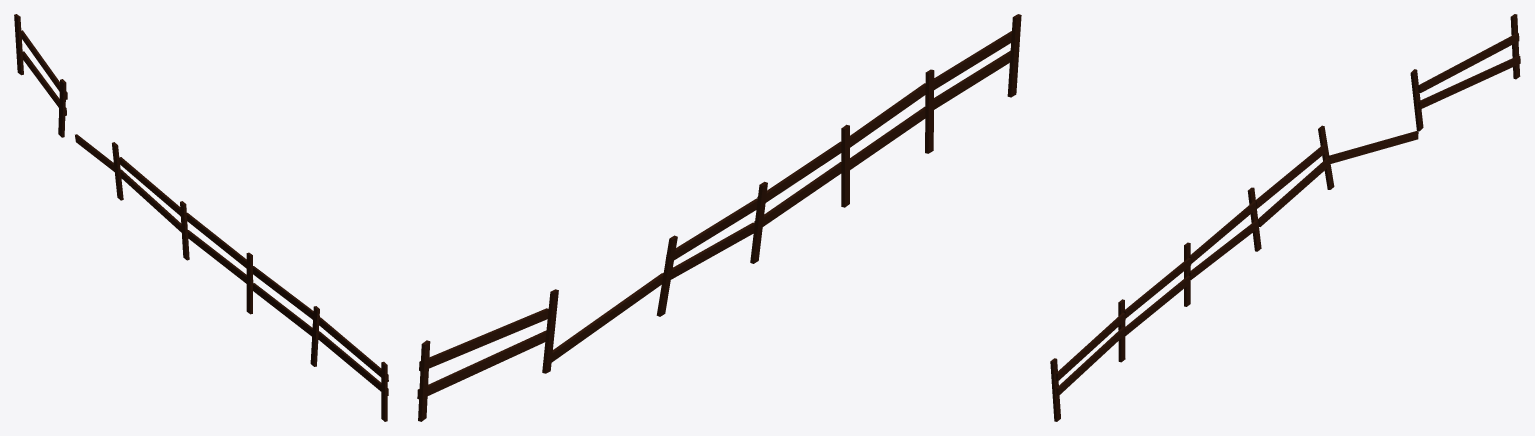
The model's file is LongFence.fbx.
3 views of the same model, side by side, from view 1: azimuth 30°, elevation 25°; view 2: azimuth 150°, elevation 25°; view 3: azimuth 330°, elevation 25° (orthographic). The views are drawn at different scales.
Visible parts, largest first — view 1: FenceLong; view 2: FenceLong; view 3: FenceLong.
Boxes of the visible parts, left/top/right/bottom form: FenceLong: left=14, top=14, right=388, bottom=421; FenceLong: left=417, top=14, right=1021, bottom=421; FenceLong: left=1050, top=14, right=1520, bottom=421.
Bounding box in the file's own units: 98.98 × 187 × 1353.
